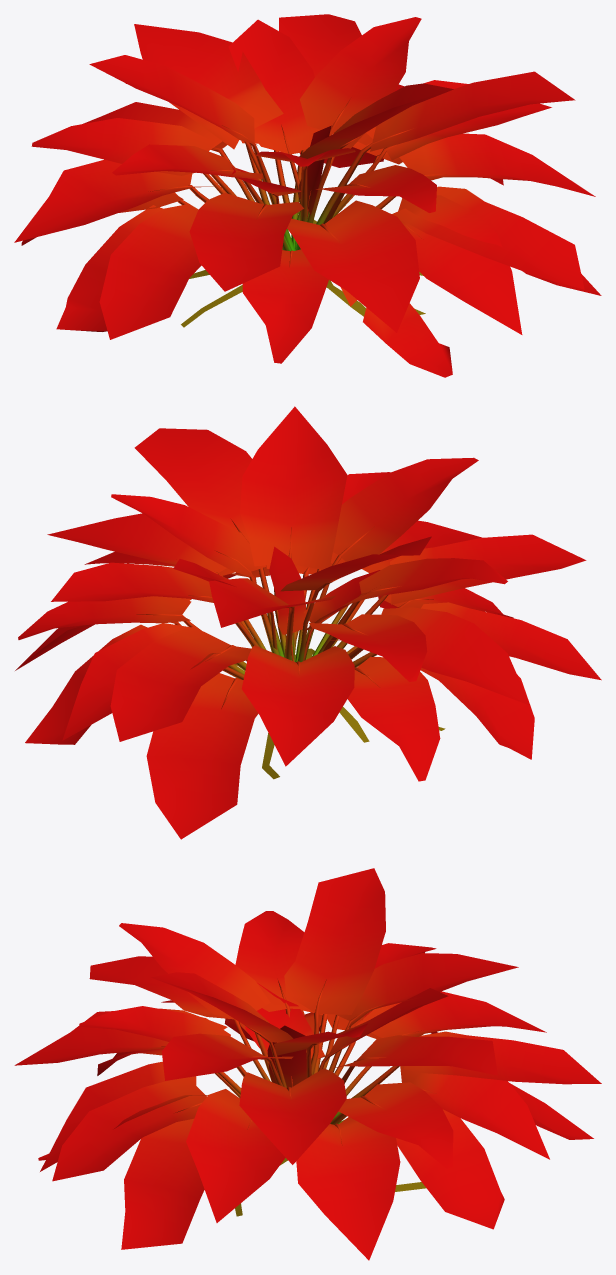
File: Xanadu_LOD2_Var4_siroZ.fbx
3 views of the same model, one above another, from view 1: azimuth 30°, elevation 25°; view 2: azimuth 150°, elevation 25°; view 3: azimuth 270°, elevation 25° (orthographic). The views are drawn at different scales.
Parts seen in each view (by area): view 1: _d569_Var4_LOD2; view 2: _d569_Var4_LOD2; view 3: _d569_Var4_LOD2.
Part boxes in pixels (left/top/right/bottom): _d569_Var4_LOD2: left=14, top=14, right=601, bottom=377; _d569_Var4_LOD2: left=15, top=406, right=601, bottom=839; _d569_Var4_LOD2: left=14, top=868, right=601, bottom=1260.
Bounding box in the file's own units: 68.79 × 29.65 × 72.68.
